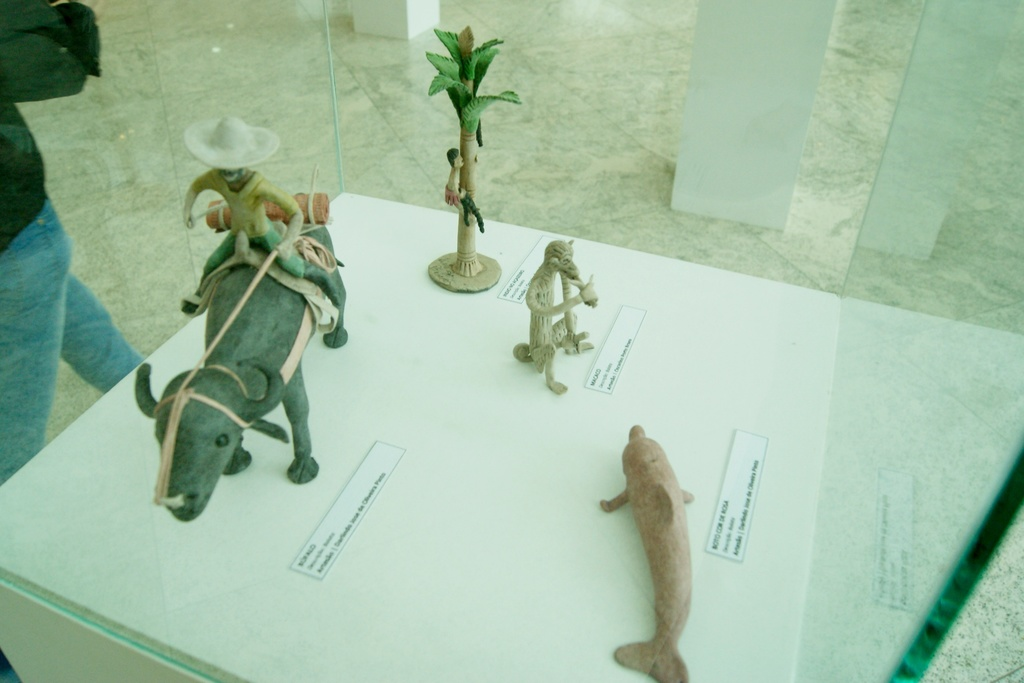Animal: (128, 188, 352, 525), (591, 418, 700, 681)
